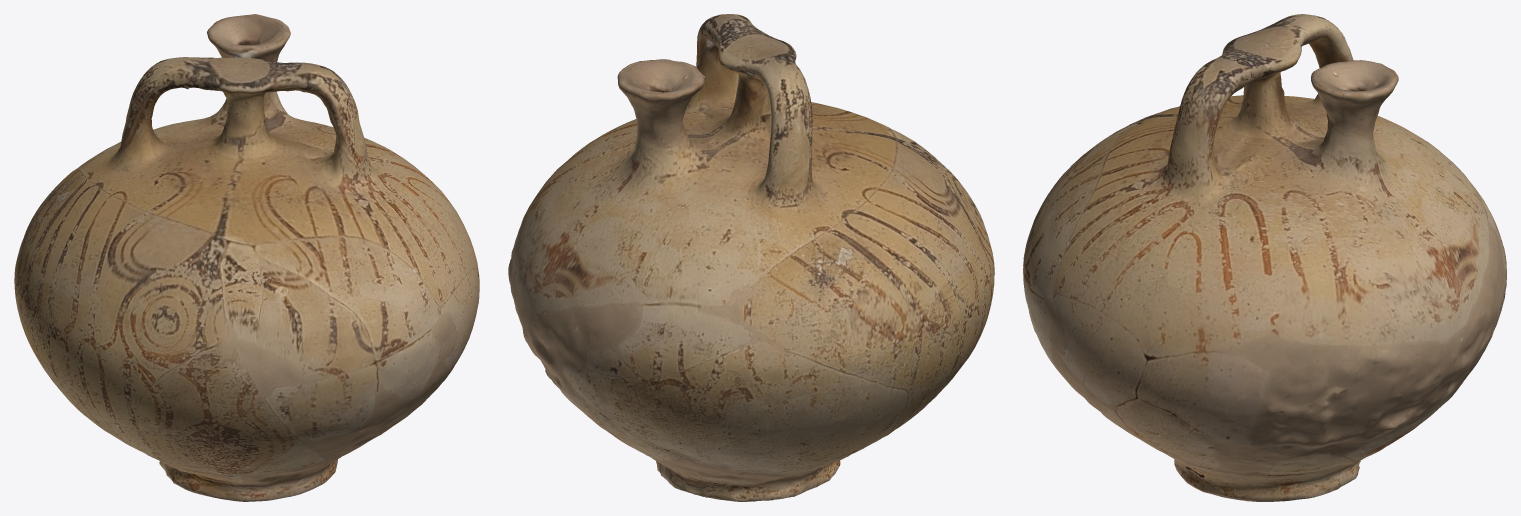
Rendered from Amforeas2.fbx.
The picture shows the model from 3 angles, left to right: view 1: azimuth 30°, elevation 25°; view 2: azimuth 150°, elevation 25°; view 3: azimuth 270°, elevation 25°; orthographic projection. The views are drawn at different scales.
Visible parts, largest first — view 1: Amforeas2-video; view 2: Amforeas2-video; view 3: Amforeas2-video.
Boxes of the visible parts, x1,y1,x2,y2 form: Amforeas2-video: (14,14,479,501); Amforeas2-video: (508,14,994,501); Amforeas2-video: (1023,14,1506,501).
Bounding box in the file's own units: 16.16 × 15.57 × 16.16.
Materials: 2 (2 with a texture image).
